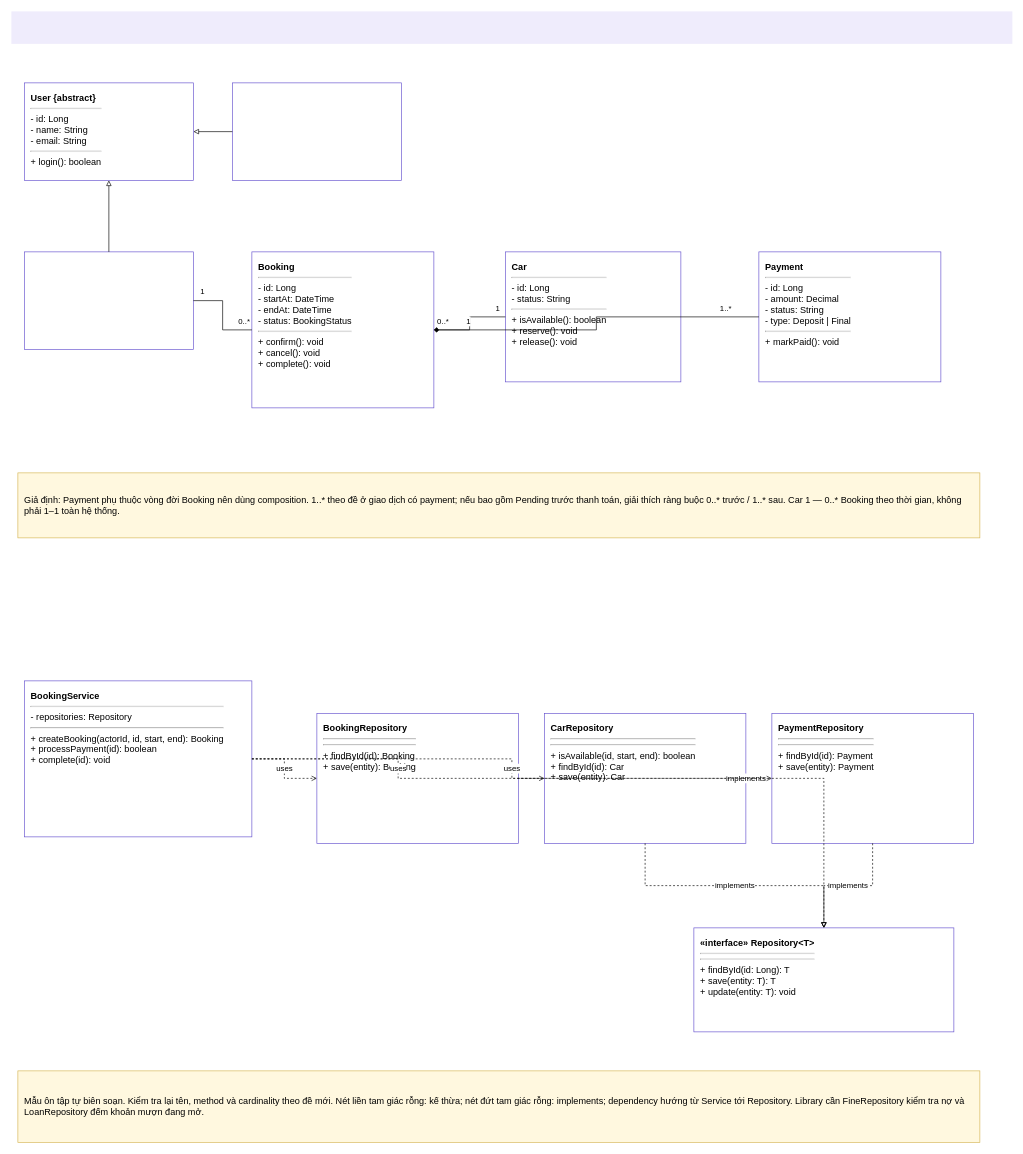
Image size: 1023x1154. Some labels were removed from this diagram. Here are the shapes that lost their labels. From the top down, the box of each, then its label:
(11, 11, 1012, 44): AutoGo · Q1 Design-level Class Diagram
(232, 82, 401, 180): Staff - employeeCode: String + inspect(): void + confirm(): void
(24, 251, 193, 349): Customer - userId: Long + request(): void
